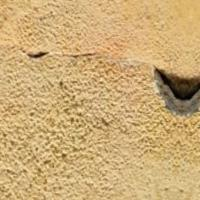crack: (20, 40, 199, 122)
